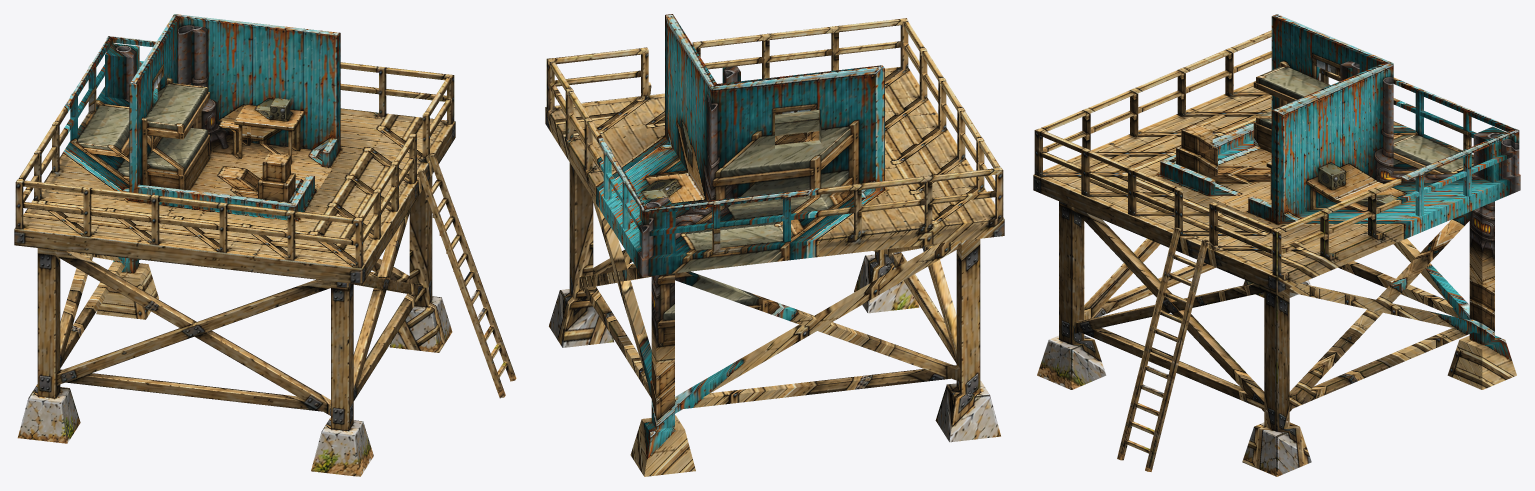
File: tower_cut.glb
3 views of the same model, side by side, from view 1: azimuth 30°, elevation 25°; view 2: azimuth 150°, elevation 25°; view 3: azimuth 270°, elevation 25° (orthographic). The views are drawn at different scales.
Visible parts, largest first — view 1: tower_cut_game; view 2: tower_cut_game; view 3: tower_cut_game.
Part boxes in pixels (x1,y1,x2,y2): tower_cut_game: (14, 14, 516, 476); tower_cut_game: (545, 14, 1004, 476); tower_cut_game: (1033, 14, 1520, 476).
Size of the model in its own units: 9.9 by 7 by 9.9.
Materials: 1 (1 with a texture image).
